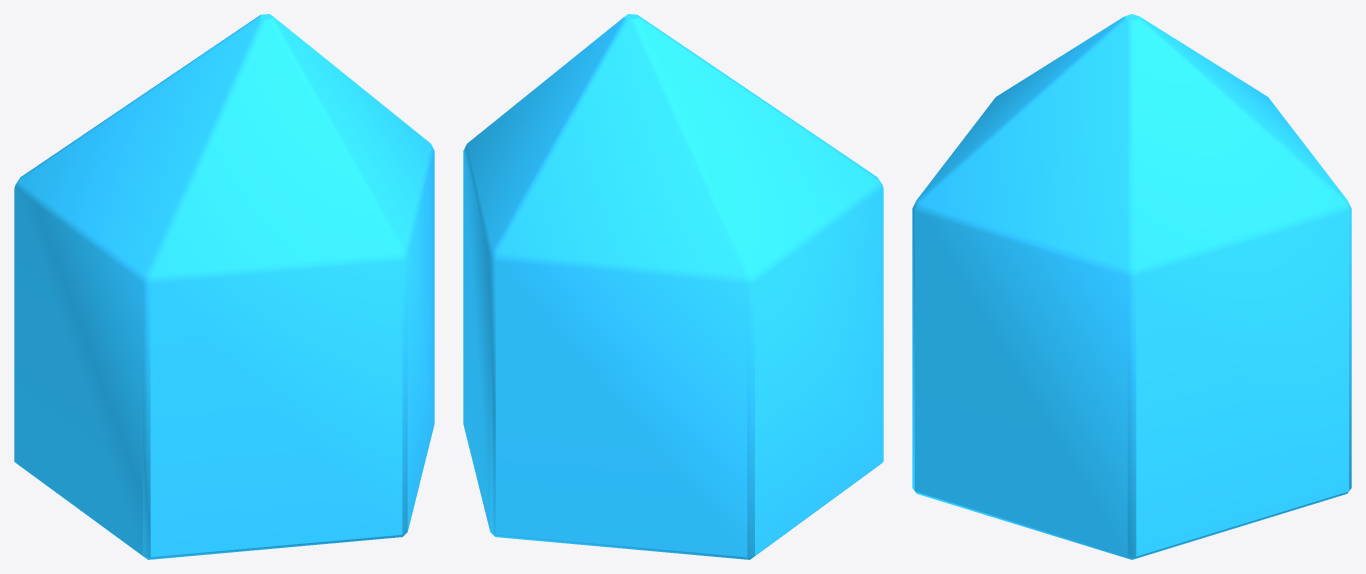
File: crystal_ground_shard_01.glb
3 views of the same model, side by side, from view 1: azimuth 30°, elevation 25°; view 2: azimuth 150°, elevation 25°; view 3: azimuth 270°, elevation 25° (orthographic). The views are drawn at different scales.
Visible parts, largest first — view 1: crystal_ground_shard_01; view 2: crystal_ground_shard_01; view 3: crystal_ground_shard_01.
Boxes of the visible parts, bbox=[...] form: crystal_ground_shard_01: bbox=[14, 14, 434, 559]; crystal_ground_shard_01: bbox=[463, 14, 883, 559]; crystal_ground_shard_01: bbox=[912, 14, 1351, 559].
Size of the model in its own units: 0.1616 by 0.1968 by 0.17.
